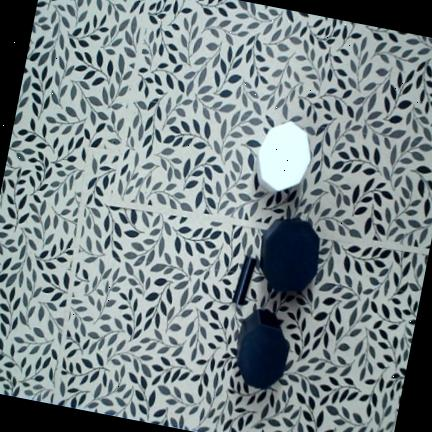Cilindro: (232, 256, 257, 306)
Prisma_hexagonal: (260, 219, 320, 292), (237, 310, 289, 390), (256, 121, 311, 192)
